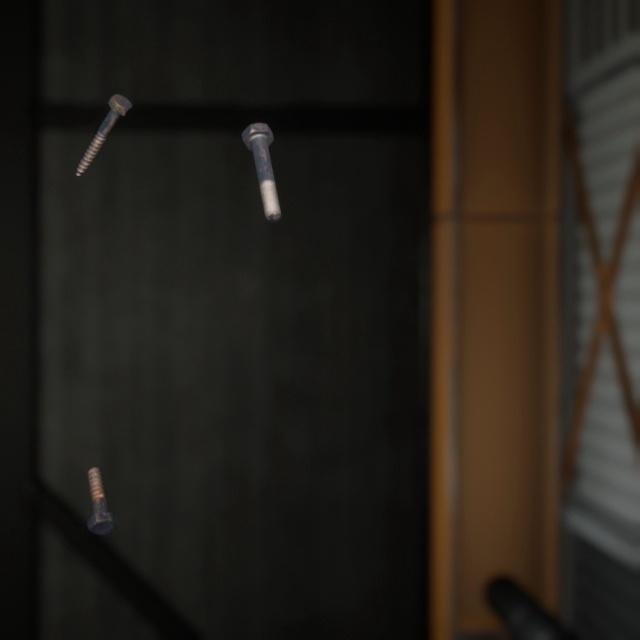bolt: (71, 76, 137, 168), (237, 104, 285, 211), (83, 441, 122, 518)
